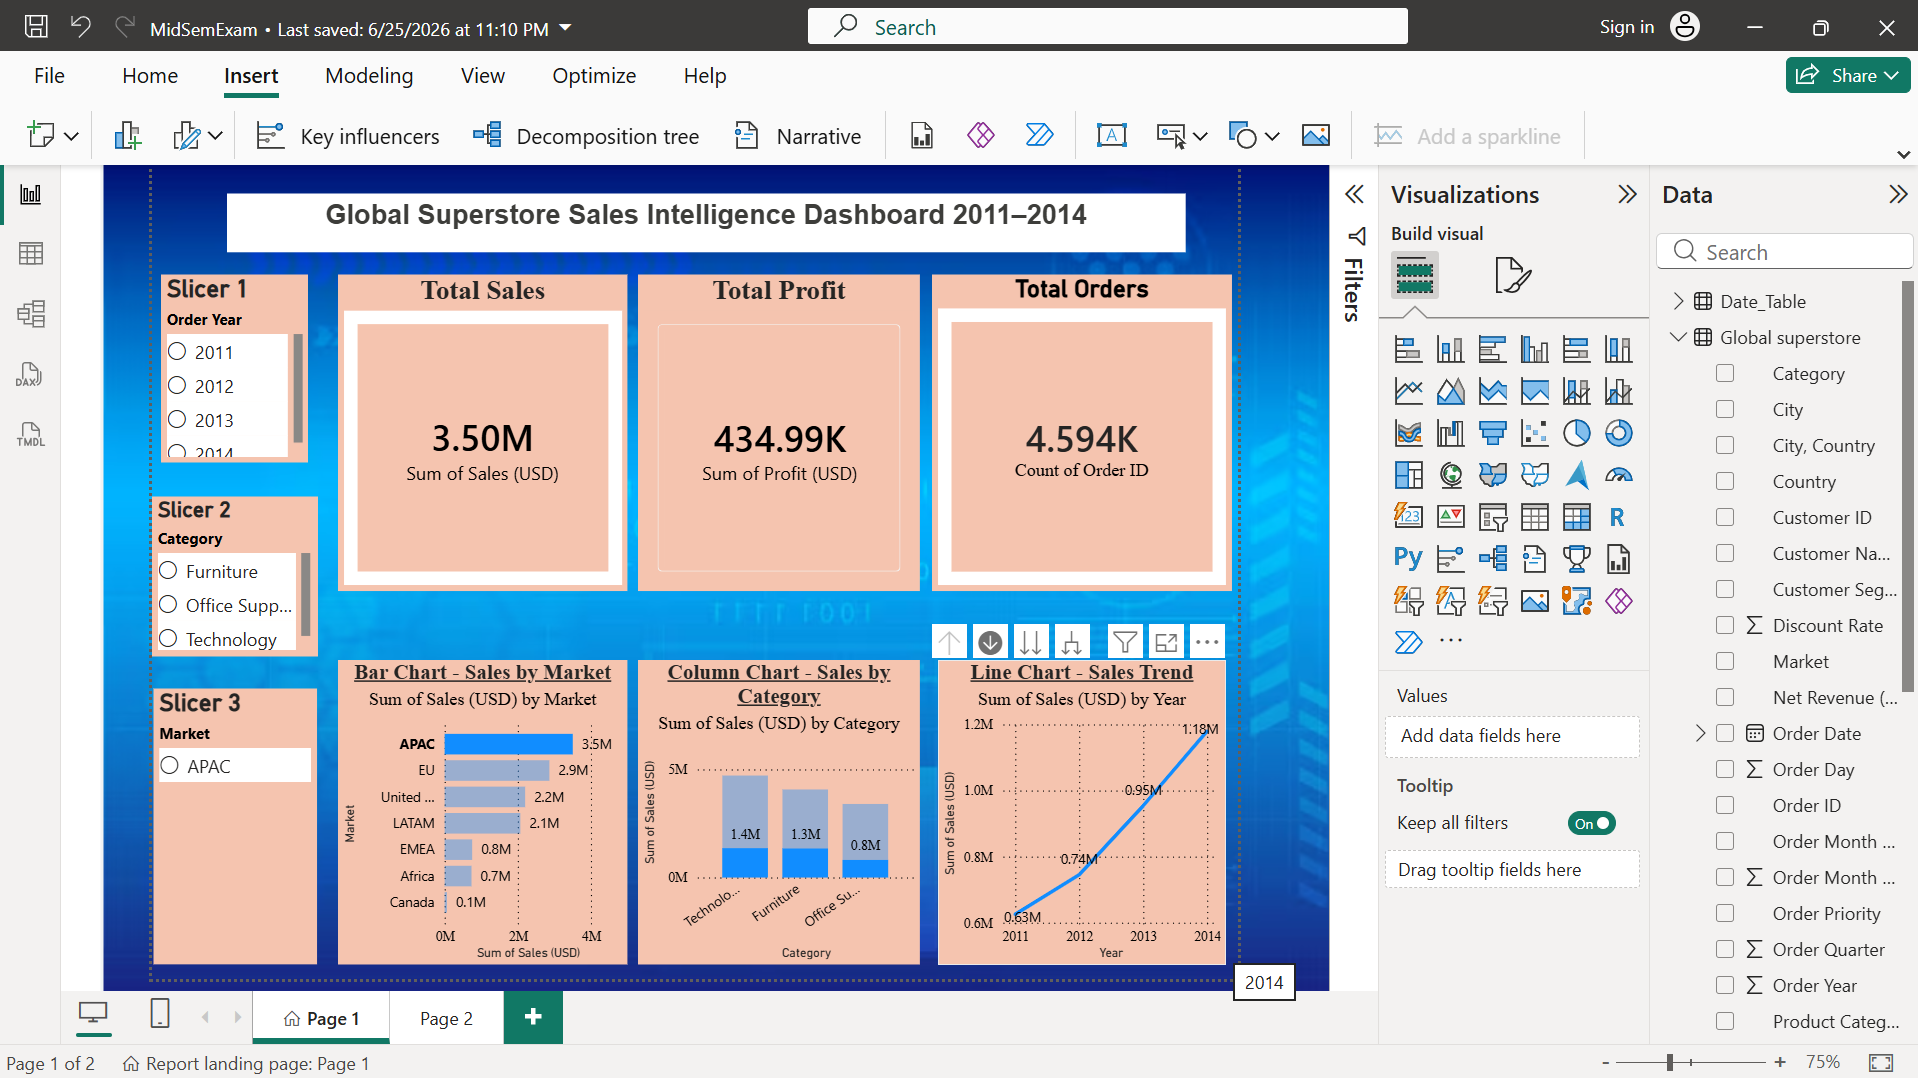

This screenshot's page, from the dashboard's own definition file:
{"tool":"powerbi","page":{"name":"Page 1","canvas":[960,720],"ordinal":0},"visuals":[{"type":"textbox","box":[66.3,25.2,847.8,51.7],"z":0},{"type":"cardVisual","title":"Total Sales","fields":{"Data":["Sum(Global superstore.Sales (USD))"]},"box":[164.5,96.9,256.1,280],"z":1000},{"type":"cardVisual","title":"Total Profit","fields":{"Data":["Sum(Global superstore.Profit (USD))"]},"box":[429.9,96.9,249.4,280],"z":2000},{"type":"cardVisual","title":"Total Orders","fields":{"Data":["Count(Global superstore.Order ID)"]},"box":[689.9,96.9,265.4,280],"z":3000},{"type":"clusteredBarChart","title":"Bar Chart - Sales by Market","fields":{"Category":["Global superstore.Market"],"Y":["Sum(Global superstore.Sales (USD))"]},"box":[164.5,437.8,256.1,269.3],"z":4000},{"type":"clusteredColumnChart","title":"Column Chart - Sales by Category","fields":{"Y":["Sum(Global superstore.Sales (USD))"],"Category":["Global superstore.Category"]},"box":[429.9,437.8,249.4,269.3],"z":5000},{"type":"lineChart","title":"Line Chart - Sales Trend","fields":{"Y":["Sum(Global superstore.Sales (USD))"],"Category":["Global superstore.Order Date.Variation.Date Hierarchy.Year","Global superstore.Order Date.Variation.Date Hierarchy.Quarter","Global superstore.Order Date.Variation.Date Hierarchy.Month","Global superstore.Order Date.Variation.Date Hierarchy.Day"]},"box":[695.2,437.8,254.7,269.3],"z":6000},{"type":"listSlicer","title":"Slicer 1","fields":{"Values":["Global superstore.Order Year"]},"box":[8,96.9,130,165.9],"z":7000},{"type":"listSlicer","title":"Slicer 3","fields":{"Values":["Global superstore.Market"]},"box":[1.3,463.1,144.6,244.1],"z":8000},{"type":"listSlicer","title":"Slicer 2","fields":{"Values":["Global superstore.Category"]},"box":[0,293.2,145.9,140.6],"z":9000}]}

Visuals, with their boxes on the page's 960x720 design canvas (x1, y1, x2, y2). These are canvas units, not pixel positions in the 1918x1078 screenshot, which may show the page scaled, cropped or inside an application window:
textbox: 66, 25, 914, 77
"Total Sales" cardVisual: 164, 97, 421, 377
"Total Profit" cardVisual: 430, 97, 679, 377
"Total Orders" cardVisual: 690, 97, 955, 377
"Bar Chart - Sales by Market" clusteredBarChart: 164, 438, 421, 707
"Column Chart - Sales by Category" clusteredColumnChart: 430, 438, 679, 707
"Line Chart - Sales Trend" lineChart: 695, 438, 950, 707
"Slicer 1" listSlicer: 8, 97, 138, 263
"Slicer 3" listSlicer: 1, 463, 146, 707
"Slicer 2" listSlicer: 0, 293, 146, 434
